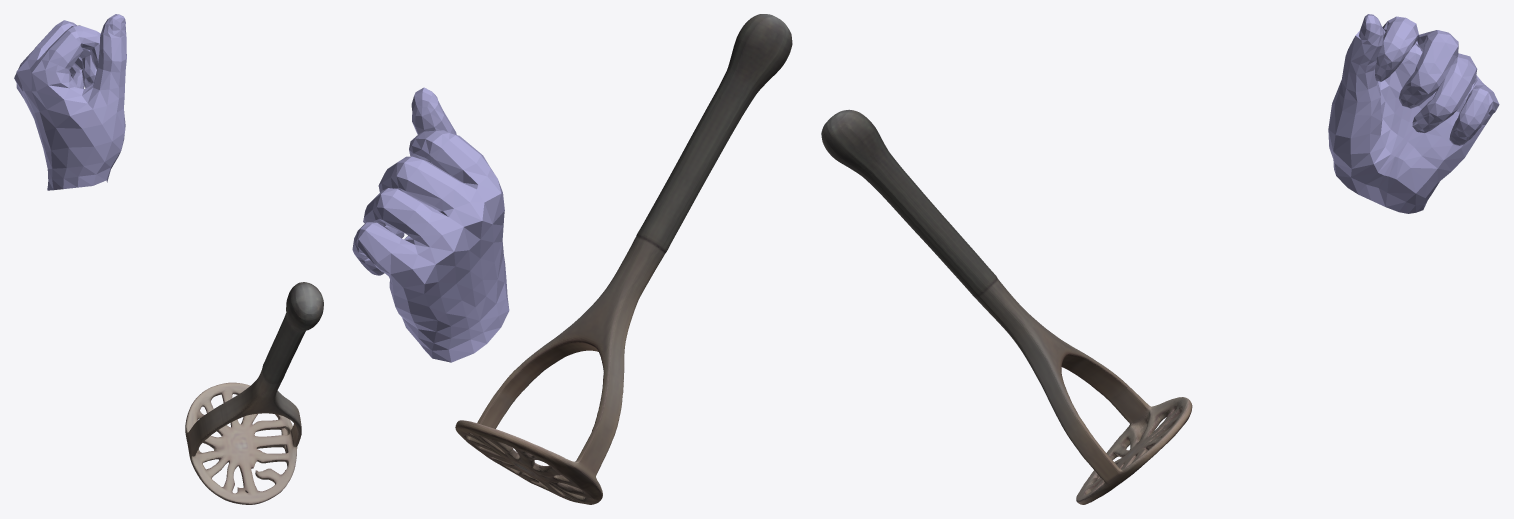
The model's file is frame_0069_source_000069_hand_object.glb.
3 renders of one model, left to right at view 1: azimuth 30°, elevation 25°; view 2: azimuth 150°, elevation 25°; view 3: azimuth 270°, elevation 25°, orthographic. The views are drawn at different scales.
Visible parts, largest first — view 1: world; view 2: world; view 3: world.
Boxes of the visible parts, x1=… form: world: x1=14, y1=14, x2=323, y2=504; world: x1=352, y1=14, x2=792, y2=504; world: x1=821, y1=14, x2=1499, y2=504.
Bounding box in the file's own units: 0.1068 × 0.2862 × 0.3714.
